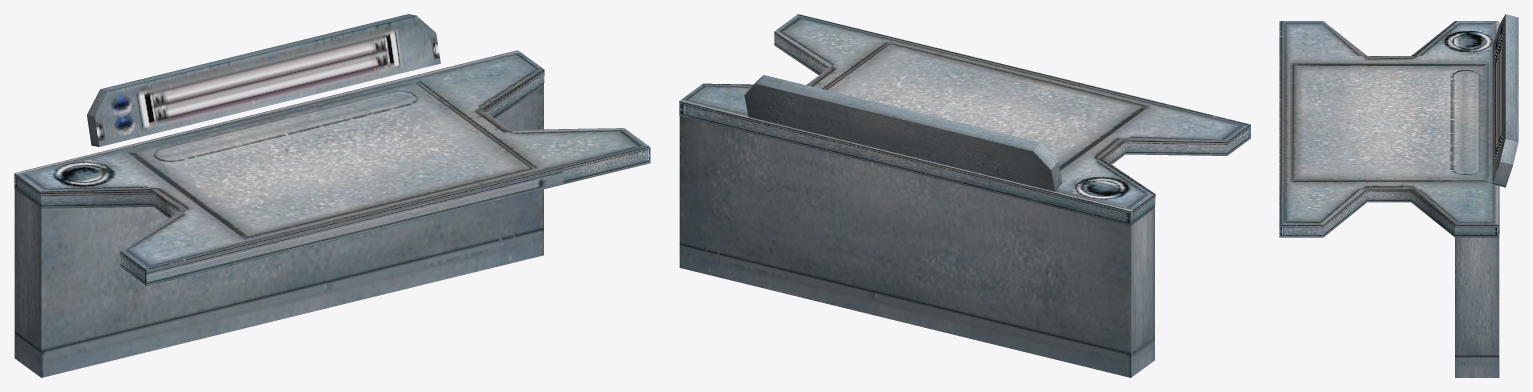
The model's file is frn_imp_tbl_s1_l1.fbx.
3 renders of one model, left to right at view 1: azimuth 30°, elevation 25°; view 2: azimuth 150°, elevation 25°; view 3: azimuth 270°, elevation 25°, orthographic. The views are drawn at different scales.
Parts seen in each view (by area): view 1: mesh_node; view 2: mesh_node; view 3: mesh_node.
Boxes of the visible parts, bbox=[...] form: mesh_node: bbox=[14, 14, 650, 377]; mesh_node: bbox=[679, 14, 1250, 377]; mesh_node: bbox=[1279, 14, 1518, 377].
Size of the model in its own units: 2.16 by 0.9873 by 1.07.
